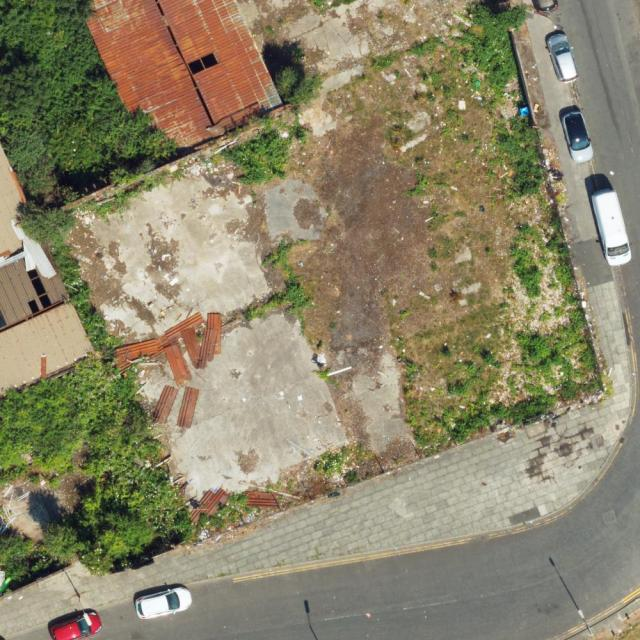roof: (75, 0, 284, 169), (0, 142, 96, 402)
